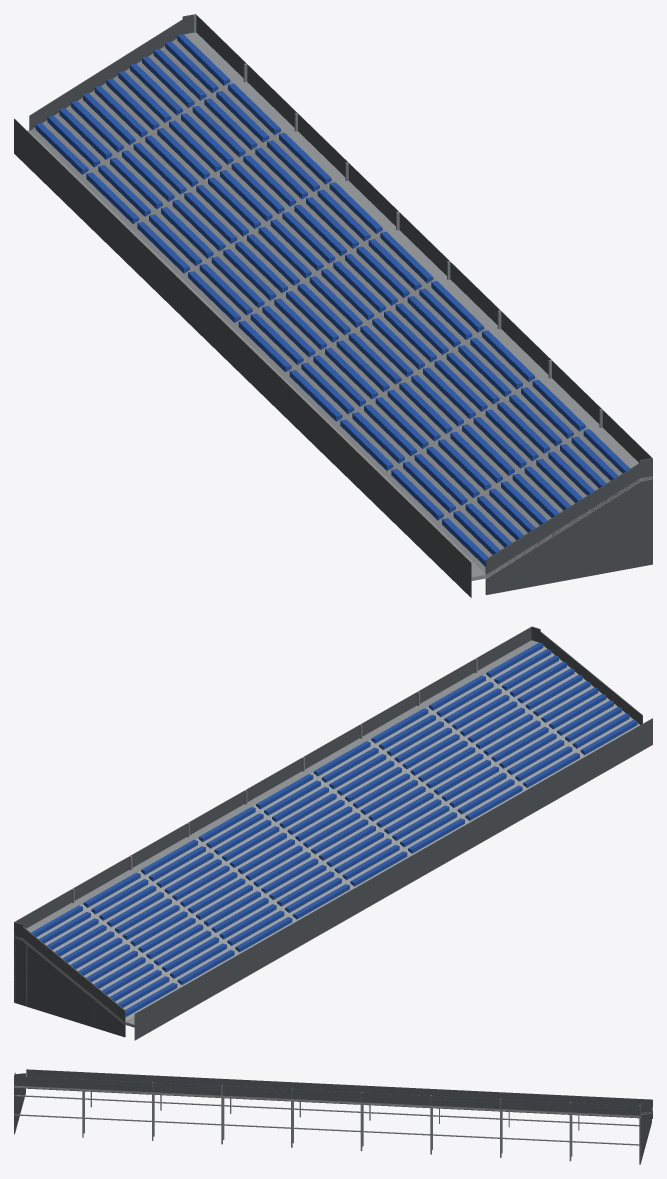
File: mza_stand_lat_parabolica_a.glb
The picture shows the model from 3 angles, top to bottom: view 1: azimuth 30°, elevation 25°; view 2: azimuth 150°, elevation 25°; view 3: azimuth 270°, elevation 25°; orthographic projection. The views are drawn at different scales.
Parts seen in each view (by area): view 1: monza-lat-parabolica-a; view 2: monza-lat-parabolica-a; view 3: monza-lat-parabolica-a.
Part boxes in pixels (x1,y1,x2,y2): monza-lat-parabolica-a: (14,14,652,597); monza-lat-parabolica-a: (14,626,652,1040); monza-lat-parabolica-a: (14,1069,652,1164).
Bounding box in the file's own units: 20.33 × 7.28 × 72.24.
